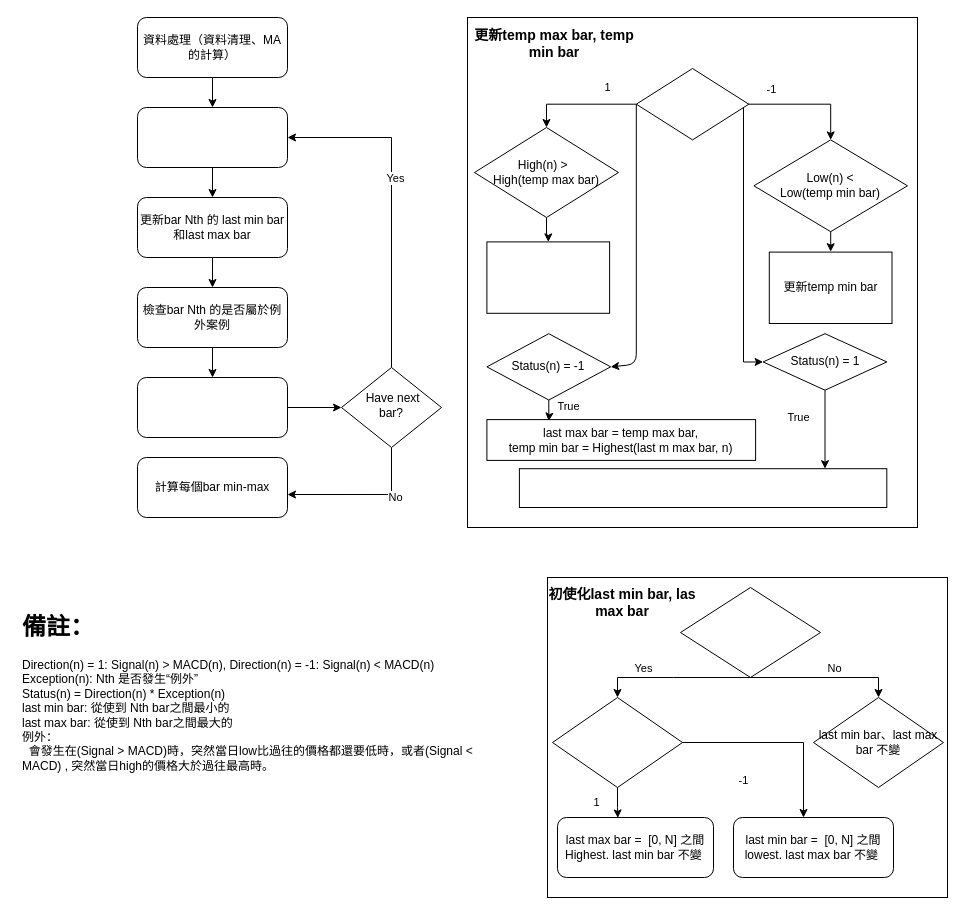
This 965x915 diagram has some shape labels left out. The centre of each missing label's shape, as x and y in pixels:
"Direction(n-1)" goes at pixel 617 742.
"last min bar = temp min bar, temp max bar = Lowest(last min max bar, n)" goes at pixel 702 488.
"Status(n-1)" goes at pixel 692 104.
"使否是一個區間的結束" goes at pixel 750 632.
"儲存bar Nth的 last min bar和last max bar" goes at pixel 212 407.
"初始化bar Nth 的 last min bar和last max bar" goes at pixel 212 137.
"更新temp max bar" goes at pixel 548 277.
